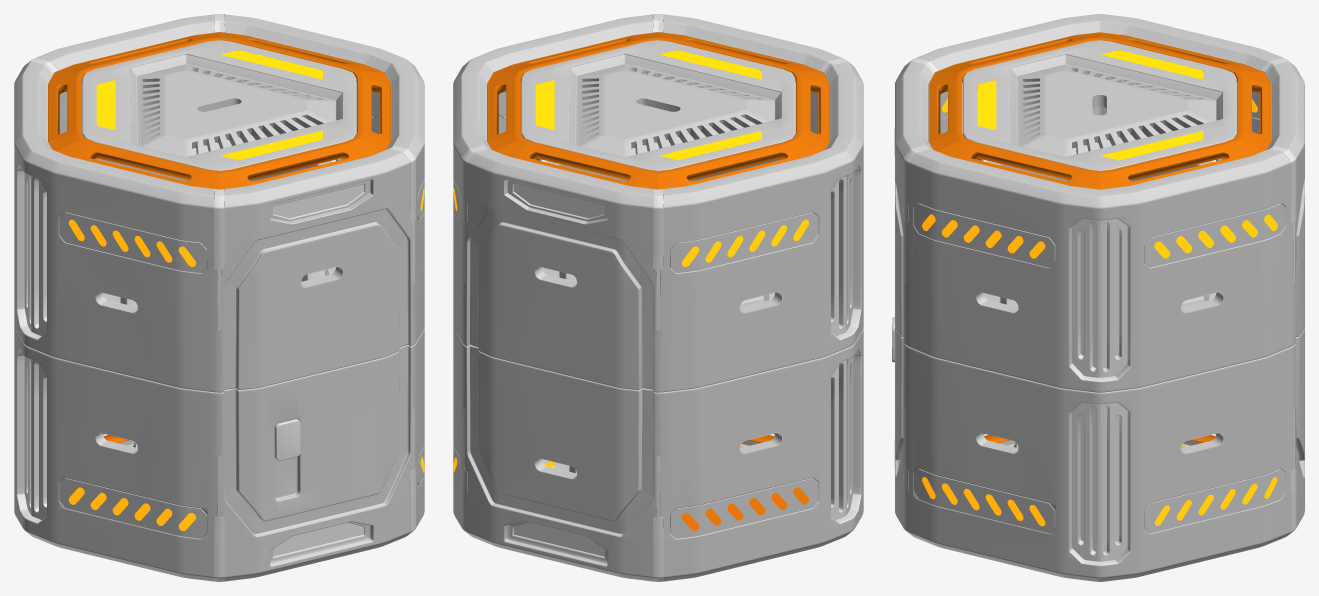
3 views of the same model, side by side, from view 1: azimuth 30°, elevation 25°; view 2: azimuth 150°, elevation 25°; view 3: azimuth 270°, elevation 25° (orthographic).
Visible parts, largest first — view 1: box6-01, box6-02, box6-15, box6-12, box6-23, box6-42, box6-14, box6-31, box6-32, box6-25, box6-09, box6-05 (+3 smaller); view 2: box6-01, box6-02, box6-15, box6-12, box6-23, box6-42, box6-14, box6-20, box6-38, box6-26, box6-08, box6-04 (+2 smaller); view 3: box6-01, box6-02, box6-15, box6-12, box6-18, box6-35, box6-14, box6-06, box6-10, box6-11, box6-07, box6-29 (+2 smaller).
Boxes of the visible parts, <box> form: box6-01: <box>14,14,424,392</box>; box6-02: <box>14,267,424,581</box>; box6-15: <box>82,40,356,170</box>; box6-12: <box>48,32,390,189</box>; box6-23: <box>16,165,46,339</box>; box6-42: <box>16,349,46,523</box>; box6-14: <box>96,50,322,160</box>; box6-31: <box>273,184,364,218</box>; box6-32: <box>273,522,364,557</box>; box6-25: <box>214,189,224,329</box>; box6-09: <box>69,219,196,266</box>; box6-05: <box>68,487,196,530</box>; box6-01: <box>453,14,863,392</box>; box6-02: <box>453,267,863,581</box>; box6-15: <box>521,40,795,170</box>; box6-12: <box>487,32,829,189</box>; box6-23: <box>830,165,861,339</box>; box6-42: <box>830,349,861,523</box>; box6-14: <box>535,50,761,160</box>; box6-20: <box>513,184,604,218</box>; box6-38: <box>513,522,604,557</box>; box6-26: <box>653,189,663,329</box>; box6-08: <box>681,219,808,266</box>; box6-04: <box>681,487,808,530</box>; box6-01: <box>894,14,1304,392</box>; box6-02: <box>894,293,1304,581</box>; box6-15: <box>962,40,1237,170</box>; box6-12: <box>928,32,1270,189</box>; box6-18: <box>1069,218,1130,381</box>; box6-35: <box>1069,402,1130,565</box>; box6-14: <box>977,50,1203,160</box>; box6-06: <box>922,477,1045,526</box>; box6-10: <box>922,214,1045,258</box>; box6-11: <box>1154,214,1277,258</box>; box6-07: <box>1154,477,1277,525</box>; box6-29: <box>903,145,930,282</box>.
Size of the model in its own units: 0.1592 by 0.1507 by 0.1463.
